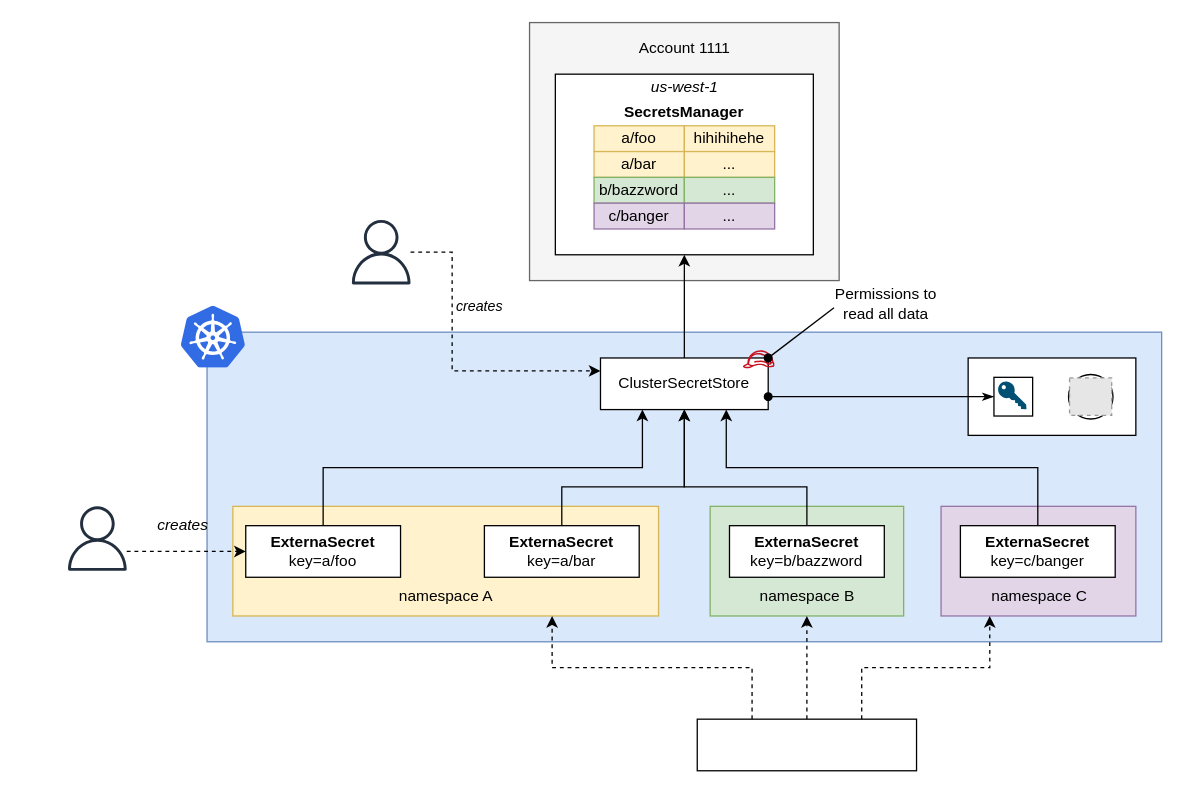
Image size: 1184x793. Some labels were removed from this diagram. Grey dashed boxes stand in for pictures. The centre of each missing label's shape, as x and y in pixels:
"Application Developer" goes at point 96,538.
"Cluster Admin" goes at point 380,251.
"namespaces are restricted to a certain key prefix" goes at point 806,744.
